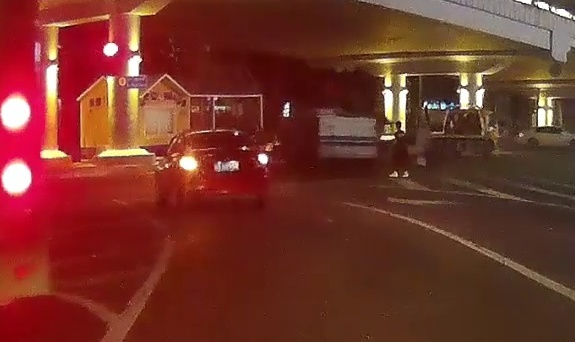L_light: (179, 158, 198, 169)
R_light: (258, 154, 268, 164)
T_light: (210, 132, 225, 136)
night-left: (178, 130, 269, 208)
